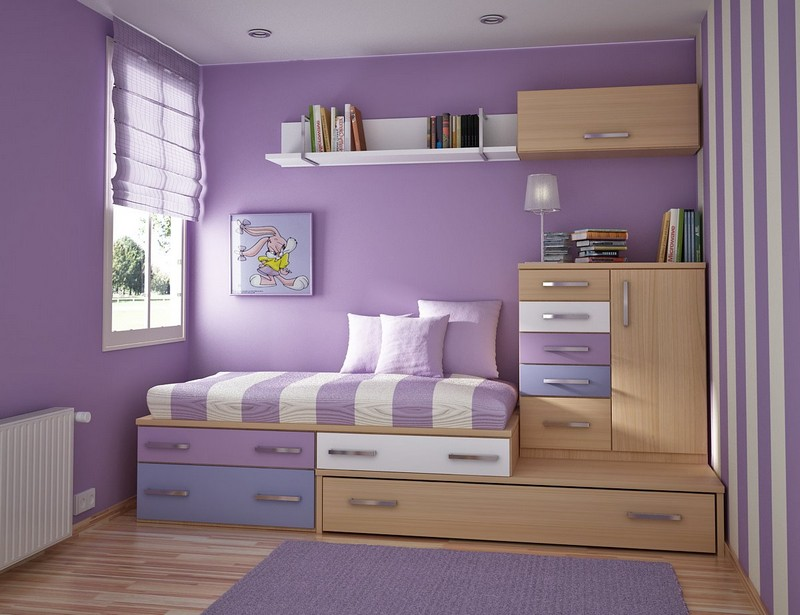bed: (148, 301, 517, 429)
lamp: (526, 169, 561, 268)
